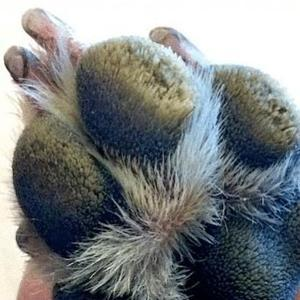keratosis: (71, 31, 198, 164), (3, 106, 112, 233), (204, 53, 299, 162)
